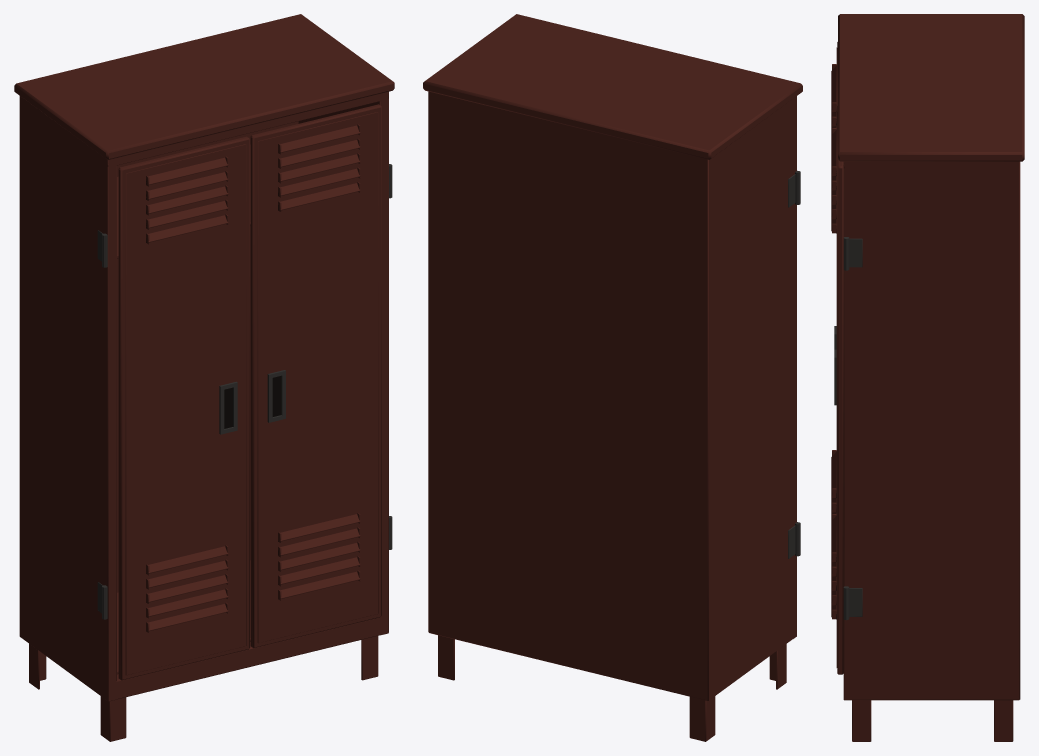
Rendered from Locker.fbx.
The picture shows the model from 3 angles, left to right: view 1: azimuth 30°, elevation 25°; view 2: azimuth 150°, elevation 25°; view 3: azimuth 270°, elevation 25°; orthographic projection.
Visible parts, largest first — view 1: Locker_Body, Locker_DoorL, Locker_DoorR, Locker_Hinges, Locker_DoorL_Handle, Locker_DoorR_Handle; view 2: Locker_Body, Locker_Hinges; view 3: Locker_Body, Locker_DoorR, Locker_Hinges, Locker_DoorL.
Part boxes in pixels (<box>): Locker_Body: <box>14,14,394,741</box>; Locker_DoorL: <box>118,136,249,680</box>; Locker_DoorR: <box>250,104,381,648</box>; Locker_Hinges: <box>97,164,392,619</box>; Locker_DoorL_Handle: <box>219,381,237,434</box>; Locker_DoorR_Handle: <box>267,370,285,422</box>; Locker_Body: <box>423,14,802,741</box>; Locker_Hinges: <box>788,170,800,558</box>; Locker_Body: <box>838,14,1024,741</box>; Locker_DoorR: <box>831,106,843,674</box>; Locker_Hinges: <box>843,237,862,620</box>; Locker_DoorL: <box>831,42,837,520</box>.
Bounding box in the file's own units: 0.948 × 1.87 × 0.5507.
